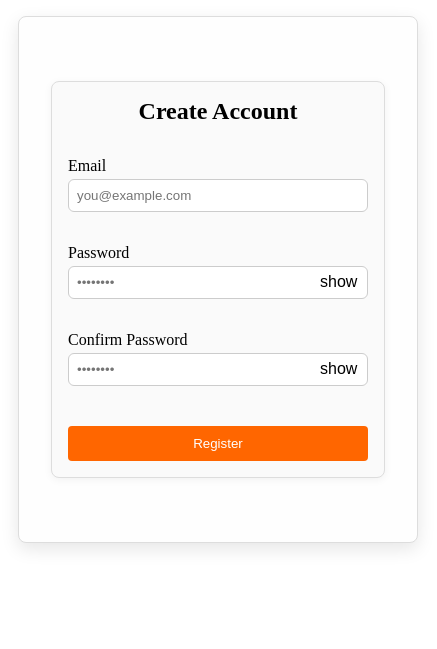
it: Register Component › shows error if API returns failure
Type "used@example.com" into the field labelled "Email" at [218, 196], box 68,179 -> 368,212
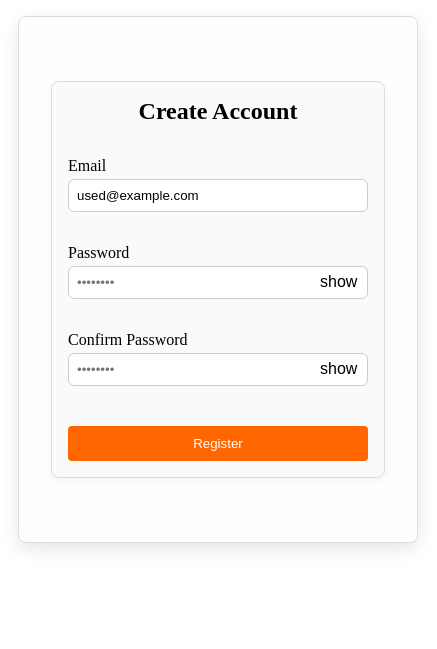
Type "Password123!" into the password field labelled "Password" at [218, 282], box 68,266 -> 368,299
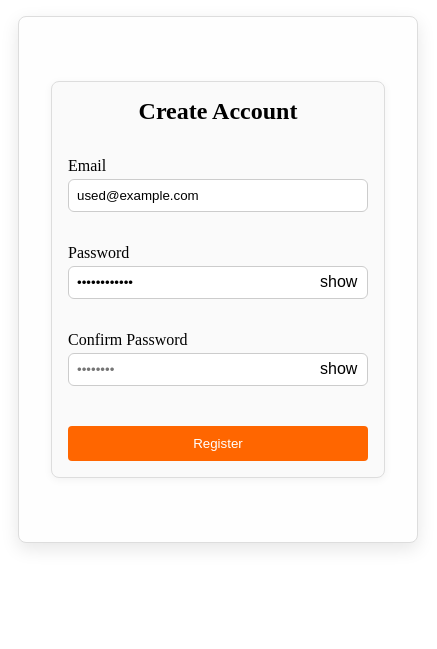
Type "Password123!" into the password field labelled "Confirm Password" at [218, 370], box 68,353 -> 368,386
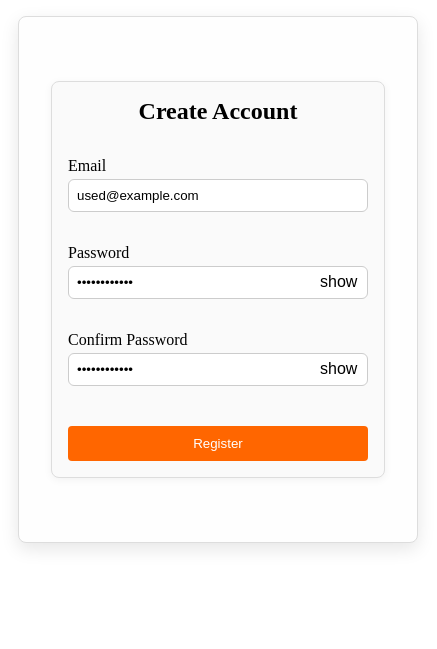
Click the button "Register" at [218, 444], box 68,426 -> 368,461
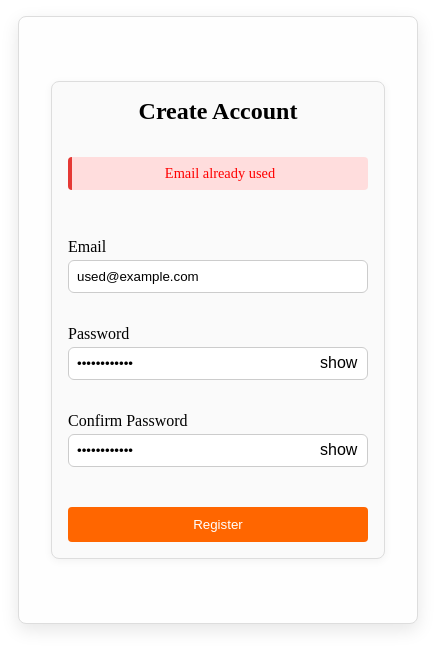
Expected: the text "Email already used" is shown, 68,157 -> 368,190
